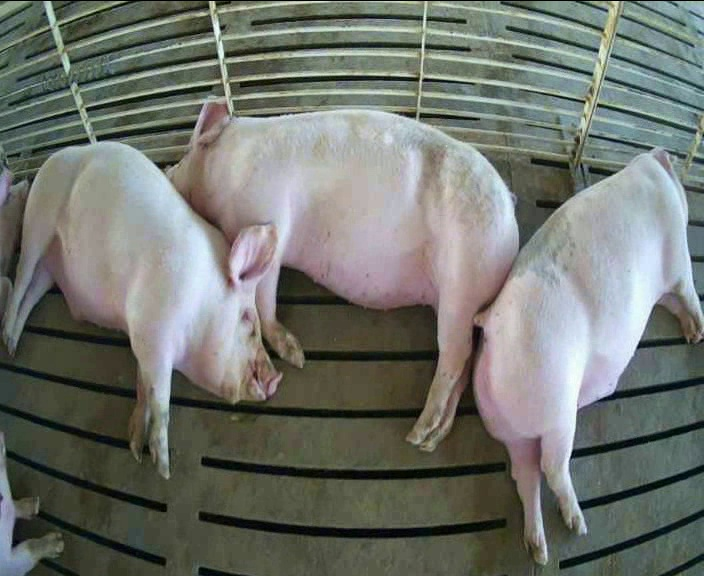pig: (167, 103, 517, 450), (474, 148, 703, 563), (3, 142, 280, 477)
